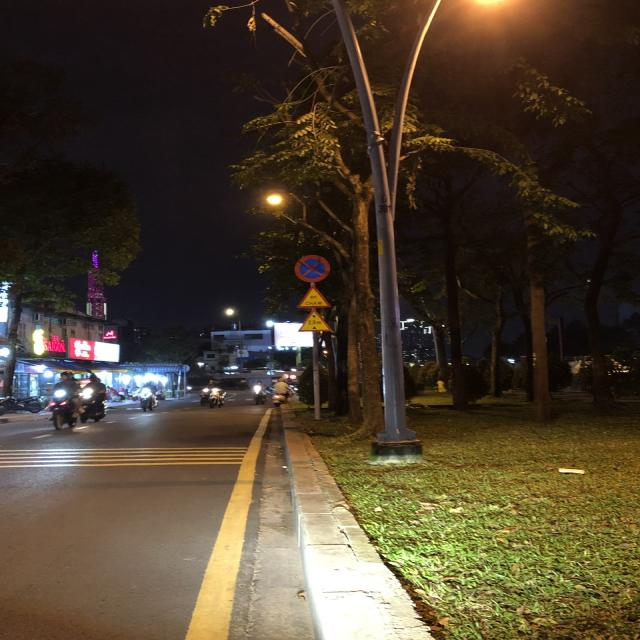Bien bao cam dung xe va do xe: (294, 252, 334, 284)
Bien bao chieu cao tinh khong thuc te: (296, 309, 334, 336)
Bien bao di cham: (293, 284, 332, 311)
